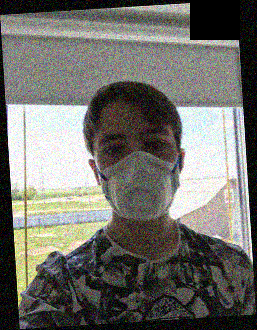with_mask: (95, 115, 182, 220)
